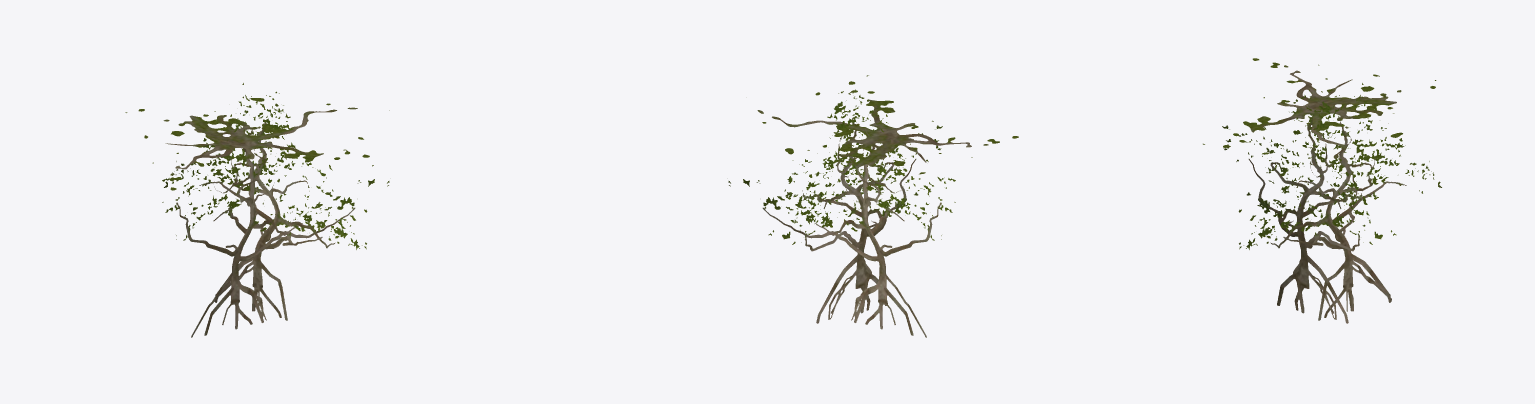
Rendered from light_lod2.glb.
3 renders of one model, left to right at view 1: azimuth 30°, elevation 25°; view 2: azimuth 150°, elevation 25°; view 3: azimuth 270°, elevation 25°, orthographic.
Parts seen in each view (by area): view 1: lod2; view 2: lod2; view 3: lod2.
Part boxes in pixels (left/top/right/bottom): lod2: left=125, top=83, right=389, bottom=337; lod2: left=728, top=75, right=1018, bottom=337; lod2: left=1203, top=58, right=1441, bottom=323.
Size of the model in its own units: 9.3 by 6.45 by 9.3.
1 material, 1 textured.
